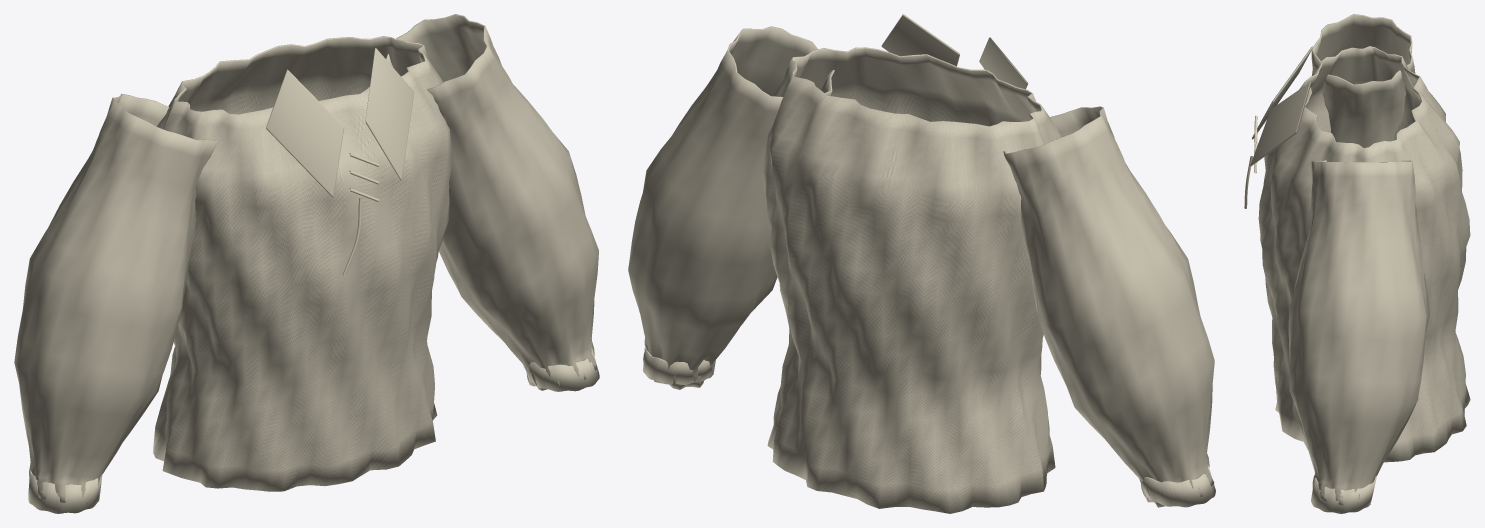
Rendered from top-fantasy.glb.
3 renders of one model, left to right at view 1: azimuth 30°, elevation 25°; view 2: azimuth 150°, elevation 25°; view 3: azimuth 270°, elevation 25°, orthographic. The views are drawn at different scales.
Visible parts, largest first — view 1: Poet shirt; view 2: Poet shirt; view 3: Poet shirt.
Part boxes in pixels (box(x1,y1,x2,y2)): Poet shirt: box(14, 14, 599, 513); Poet shirt: box(628, 14, 1215, 513); Poet shirt: box(1244, 14, 1470, 513).
Bounding box in the file's own units: 0.8403 × 0.5817 × 0.3434.
Materials: 2 (1 with a texture image).
